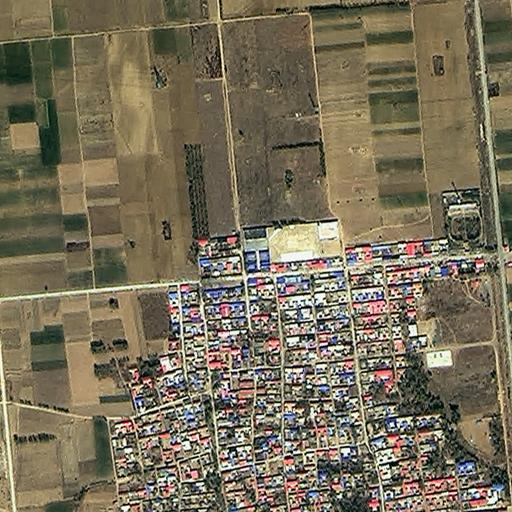school: (241, 217, 344, 276)
